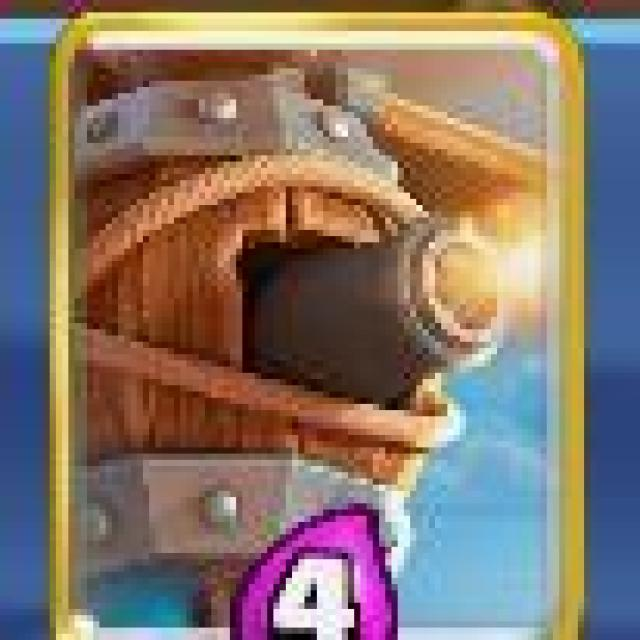Flying_Machine: (48, 10, 586, 640)
